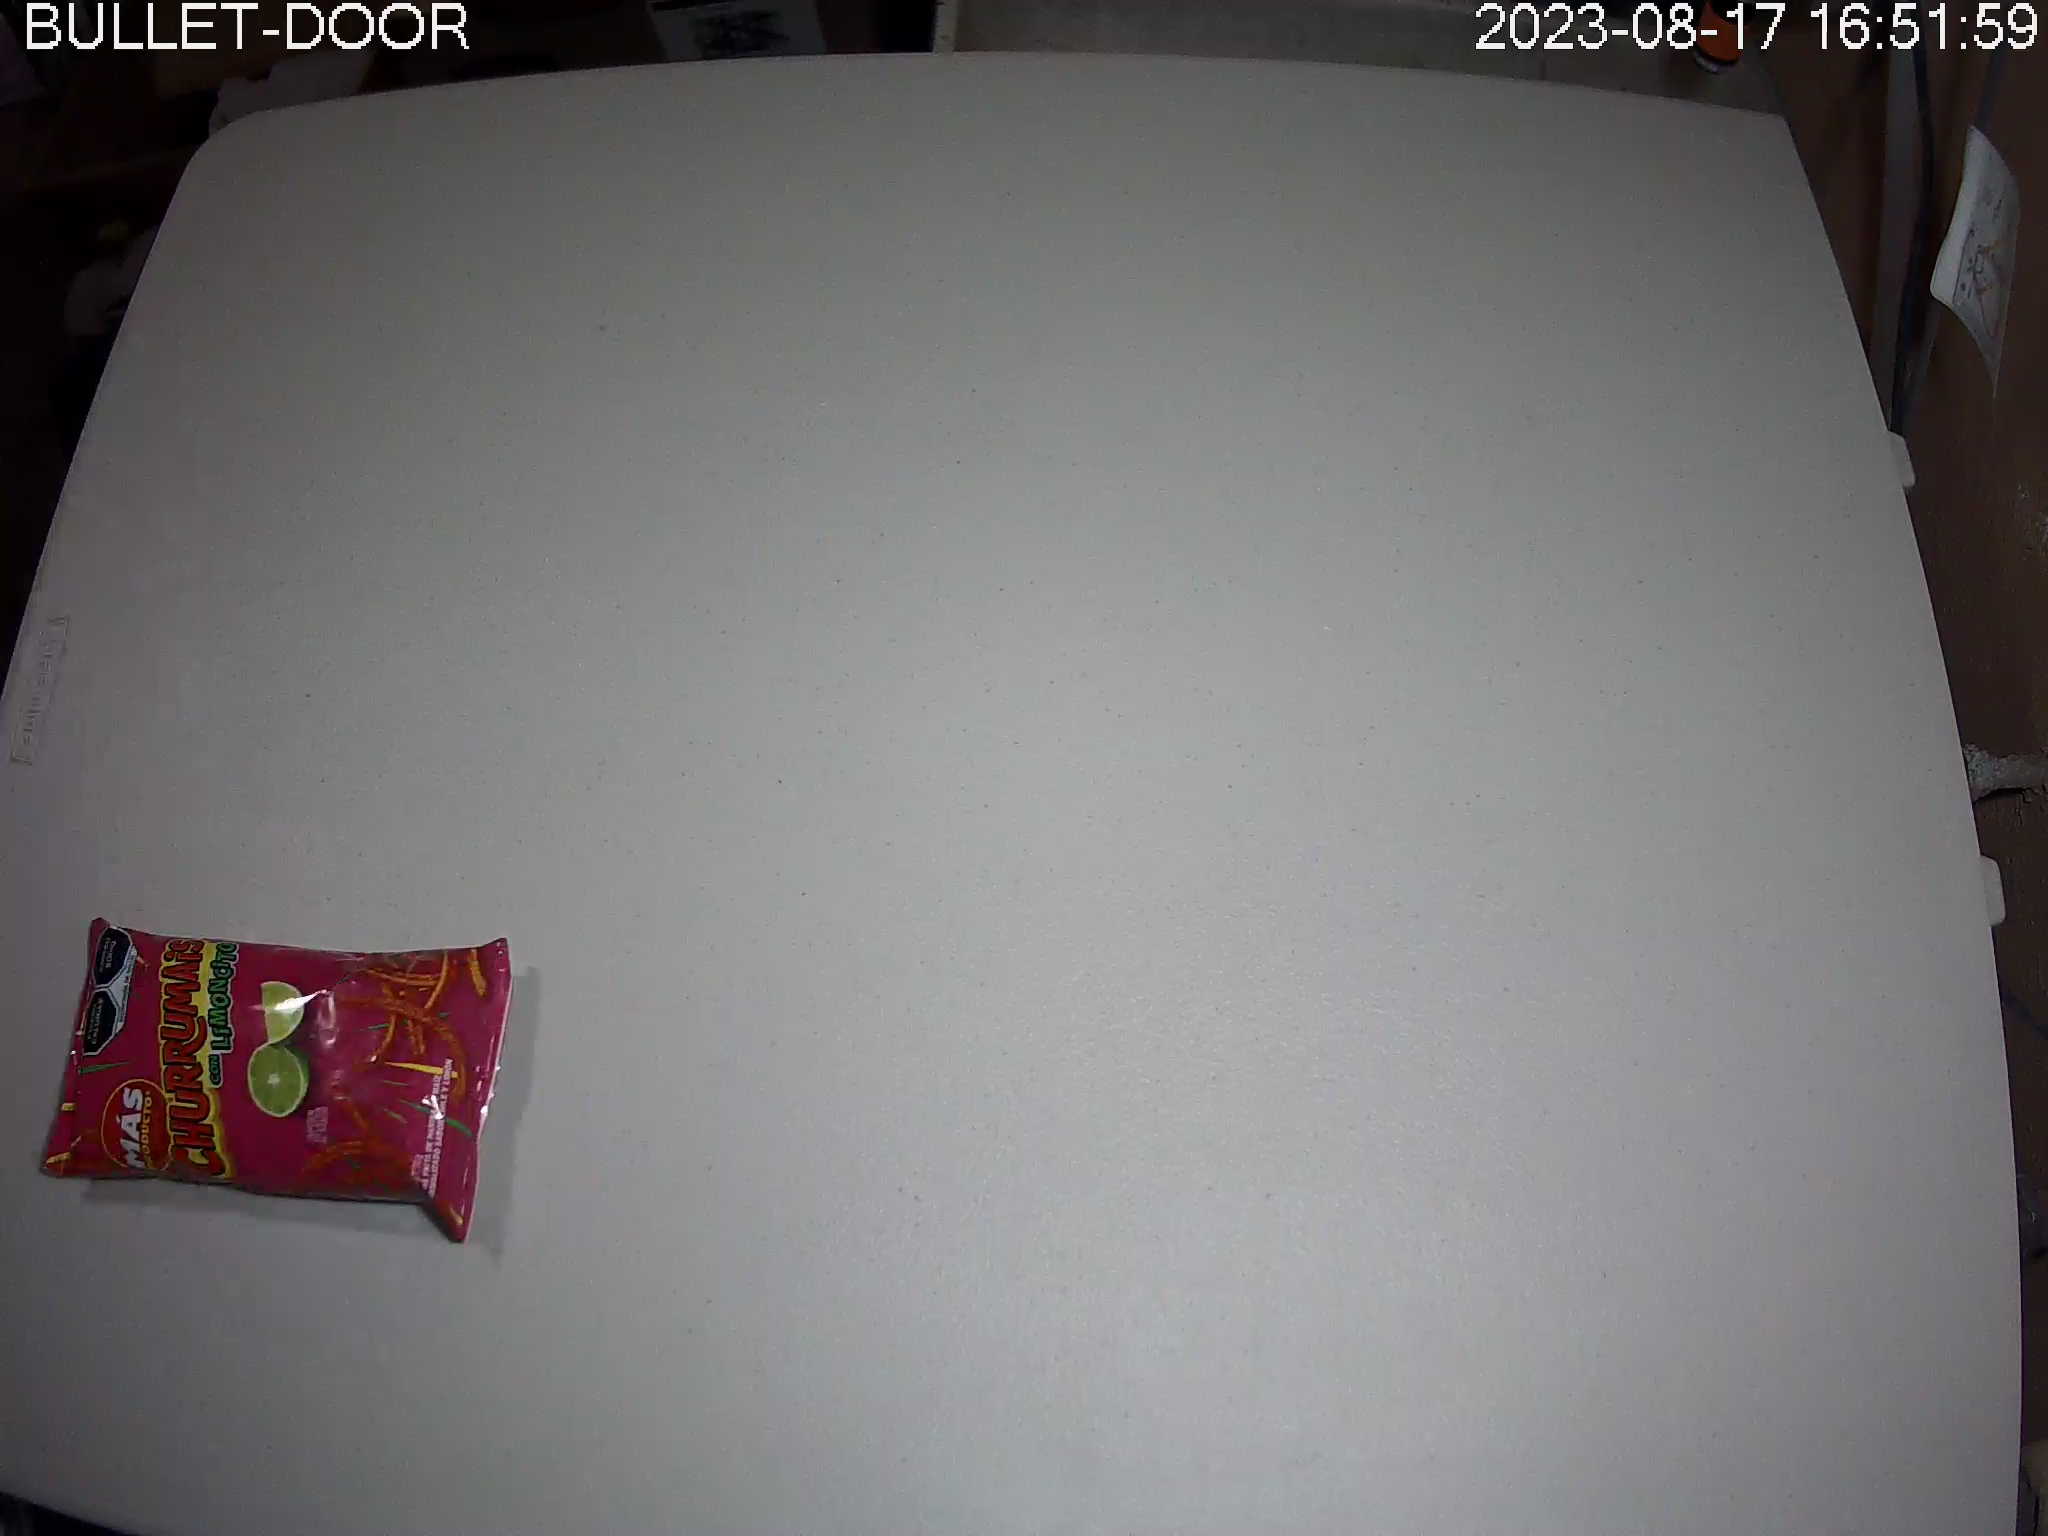Churrumais_70_F: (39, 916, 514, 1246)
